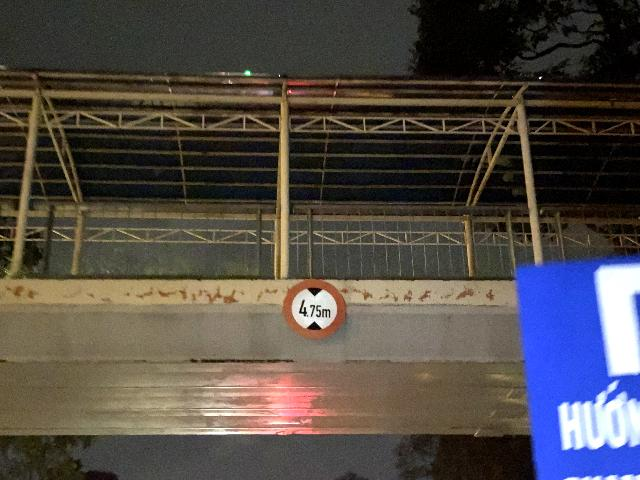han-che-chieu-cao: (282, 279, 346, 338)
